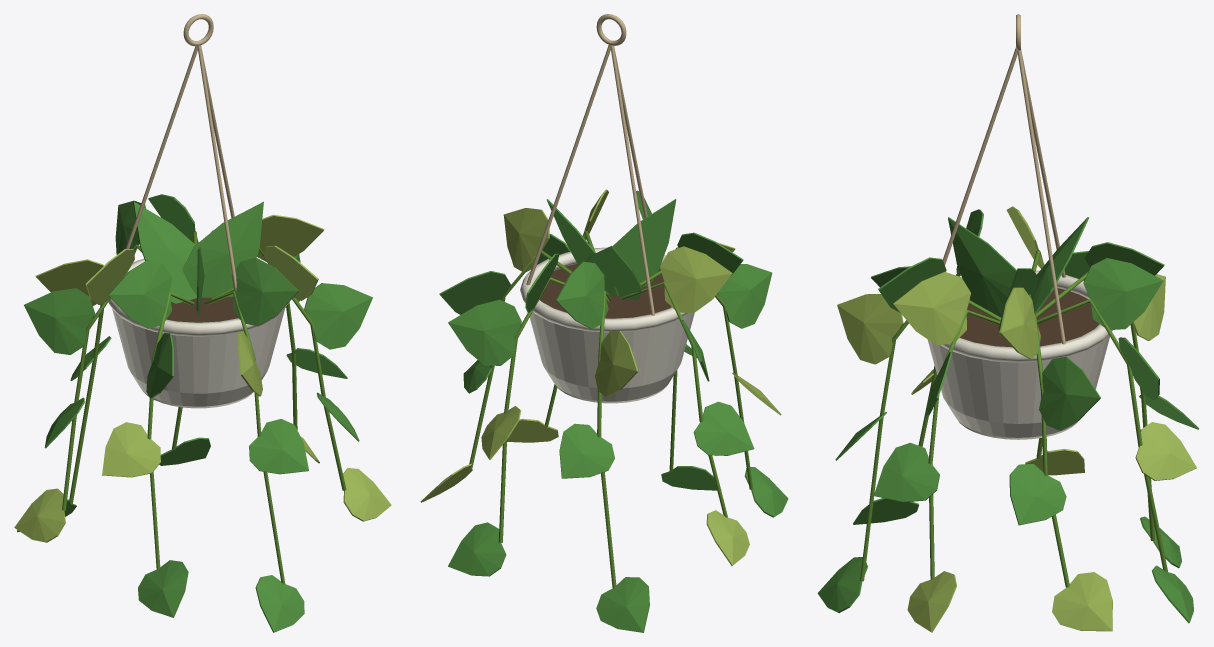
File: hanging_pothos.glb
3 views of the same model, side by side, from view 1: azimuth 30°, elevation 25°; view 2: azimuth 150°, elevation 25°; view 3: azimuth 270°, elevation 25° (orthographic). The views are drawn at different scales.
Visible parts, largest first — view 1: Pothos closed ceramic planter wall, Pothos upright center leaf, Pothos heart shaped leaf.013, Pothos heart shaped leaf.025, Pothos heart shaped leaf.020, Pothos heart shaped leaf.016, Pothos upright center leaf.001, Pothos heart shaped leaf.018, Pothos heart shaped leaf.022, Pothos heart shaped leaf.019, Pothos heart shaped leaf.023, Pothos heart shaped leaf (+23 smaller); view 2: Pothos closed ceramic planter wall, Pothos heart shaped leaf.005, Pothos heart shaped leaf.012, Pothos upright center leaf.002, Pothos rounded pot rim, Pothos heart shaped leaf.010, Pothos heart shaped leaf.008, Pothos heart shaped leaf.017, Pothos heart shaped leaf.014, Pothos heart shaped leaf.011, Pothos heart shaped leaf.007, Pothos soil surface (+22 smaller); view 3: Pothos closed ceramic planter wall, Pothos heart shaped leaf.004, Pothos heart shaped leaf.024, Pothos upright center leaf.002, Pothos heart shaped leaf.021, Pothos soil surface, Pothos heart shaped leaf.001, Pothos heart shaped leaf.003, Pothos heart shaped leaf.026, Pothos rounded pot rim, Pothos heart shaped leaf.002, Pothos heart shaped leaf.006 (+24 smaller).
Boxes of the visible parts, left/top/right/bottom form: Pothos closed ceramic planter wall: left=112, top=309, right=284, bottom=406; Pothos upright center leaf: left=182, top=201, right=263, bottom=297; Pothos heart shaped leaf.013: left=24, top=288, right=95, bottom=354; Pothos heart shaped leaf.025: left=304, top=283, right=372, bottom=349; Pothos heart shaped leaf.020: left=231, top=257, right=298, bottom=326; Pothos heart shaped leaf.016: left=108, top=260, right=171, bottom=328; Pothos upright center leaf.001: left=133, top=201, right=196, bottom=303; Pothos heart shaped leaf.018: left=102, top=422, right=160, bottom=477; Pothos heart shaped leaf.022: left=249, top=419, right=308, bottom=474; Pothos heart shaped leaf.019: left=138, top=560, right=188, bottom=617; Pothos heart shaped leaf.023: left=255, top=575, right=304, bottom=632; Pothos heart shaped leaf: left=257, top=214, right=324, bottom=262; Pothos closed ceramic planter wall: left=529, top=312, right=694, bottom=401; Pothos heart shaped leaf.005: left=448, top=299, right=521, bottom=365; Pothos heart shaped leaf.012: left=660, top=246, right=732, bottom=313; Pothos upright center leaf.002: left=604, top=199, right=676, bottom=294; Pothos rounded pot rim: left=520, top=247, right=688, bottom=332; Pothos heart shaped leaf.010: left=559, top=423, right=614, bottom=478; Pothos heart shaped leaf.008: left=555, top=261, right=608, bottom=328; Pothos heart shaped leaf.017: left=717, top=264, right=772, bottom=328; Pothos heart shaped leaf.014: left=693, top=401, right=754, bottom=455; Pothos heart shaped leaf.011: left=596, top=577, right=649, bottom=632; Pothos heart shaped leaf.007: left=448, top=522, right=506, bottom=576; Pothos soil surface: left=539, top=264, right=671, bottom=318; Pothos closed ceramic planter wall: left=927, top=335, right=1109, bottom=437; Pothos heart shaped leaf.004: left=1083, top=258, right=1163, bottom=329; Pothos heart shaped leaf.024: left=893, top=271, right=970, bottom=345; Pothos upright center leaf.002: left=948, top=217, right=1031, bottom=316; Pothos heart shaped leaf.021: left=837, top=294, right=903, bottom=364; Pothos soil surface: left=959, top=288, right=1099, bottom=347; Pothos heart shaped leaf.001: left=1039, top=357, right=1100, bottom=430; Pothos heart shaped leaf.003: left=1052, top=572, right=1112, bottom=631; Pothos heart shaped leaf.026: left=873, top=442, right=939, bottom=502; Pothos rounded pot rim: left=940, top=270, right=1112, bottom=362; Pothos heart shaped leaf.002: left=1009, top=464, right=1066, bottom=525; Pothos heart shaped leaf.006: left=1135, top=422, right=1196, bottom=480.
Bounding box in the file's own units: 0.751 × 1.28 × 0.7536.
